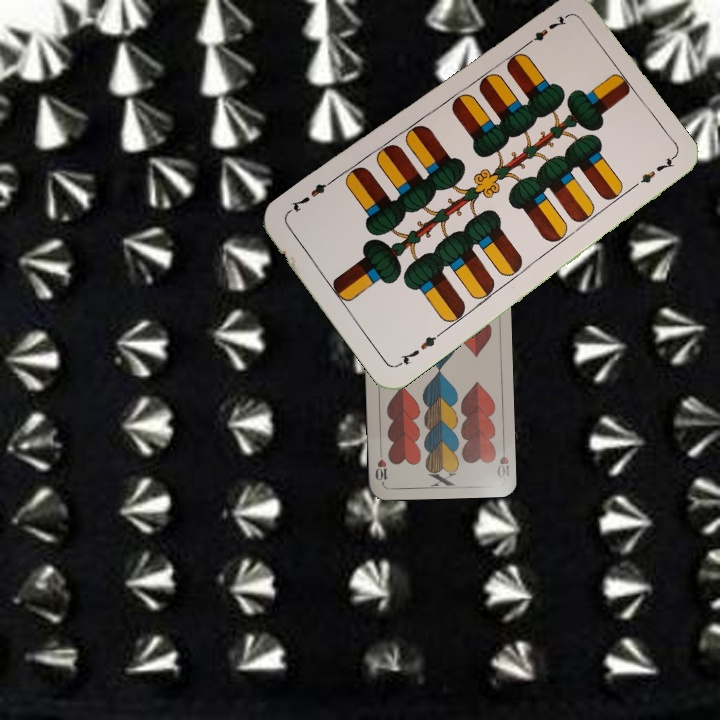E7: (393, 328, 444, 369), (518, 11, 570, 51)
H10: (492, 440, 512, 480)
